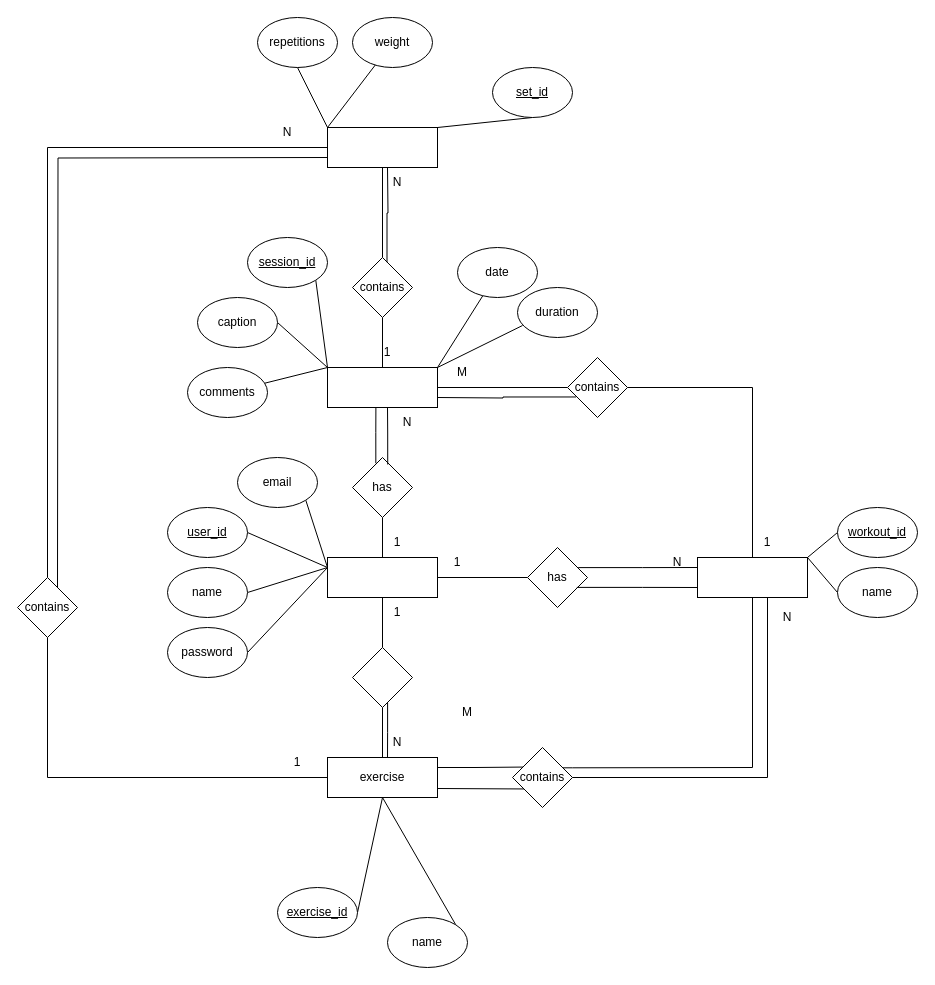
Image size: 935x985. Some labels were removed from this diagram. Each missing label, with the centre of its shape:
defines: the point at 382,677
user: the point at 382,577
workout: the point at 752,577
workout_session: the point at 382,387
workout_set: the point at 382,147
